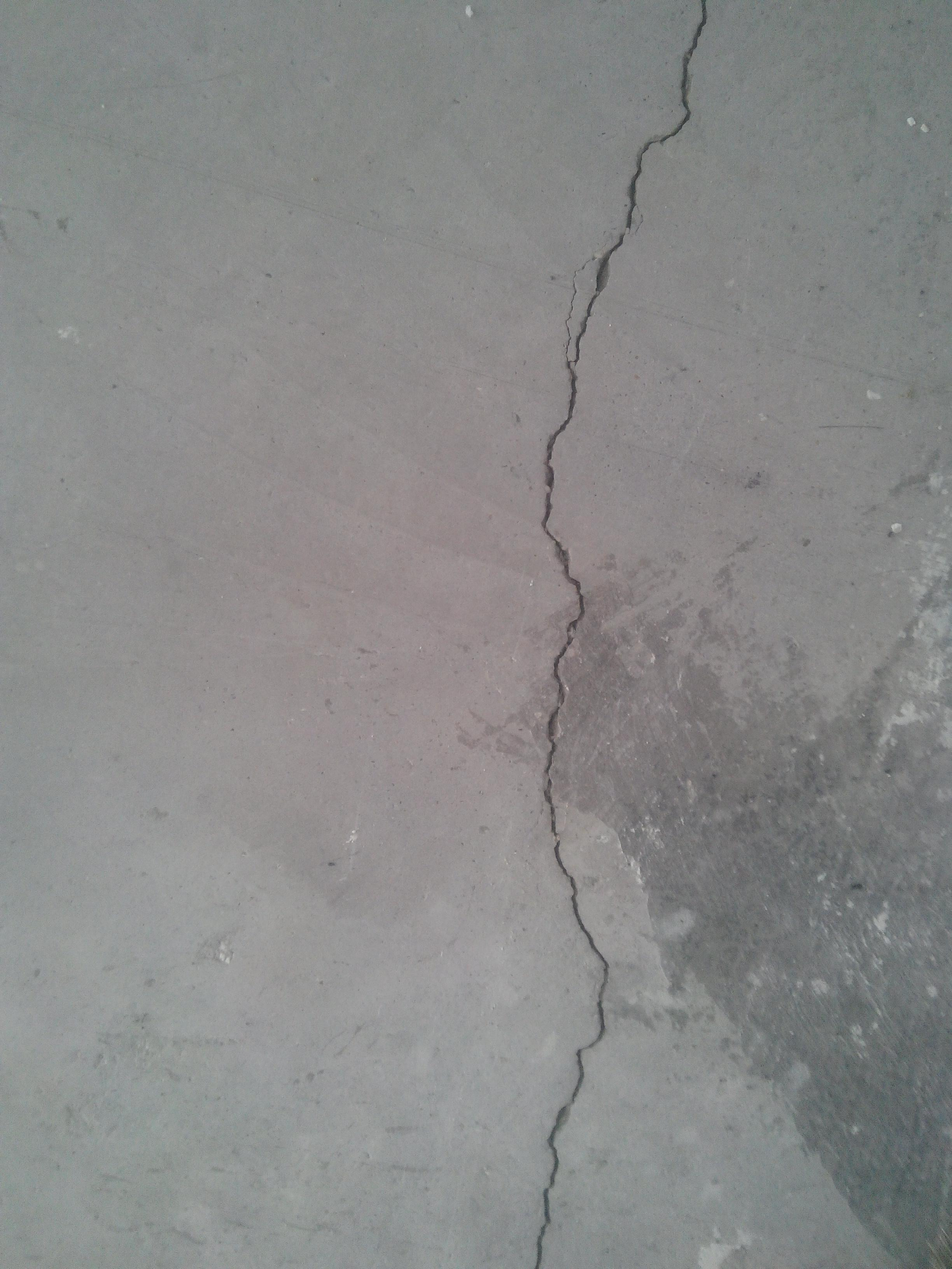Vertical Crack: (528, 1, 710, 1263)
